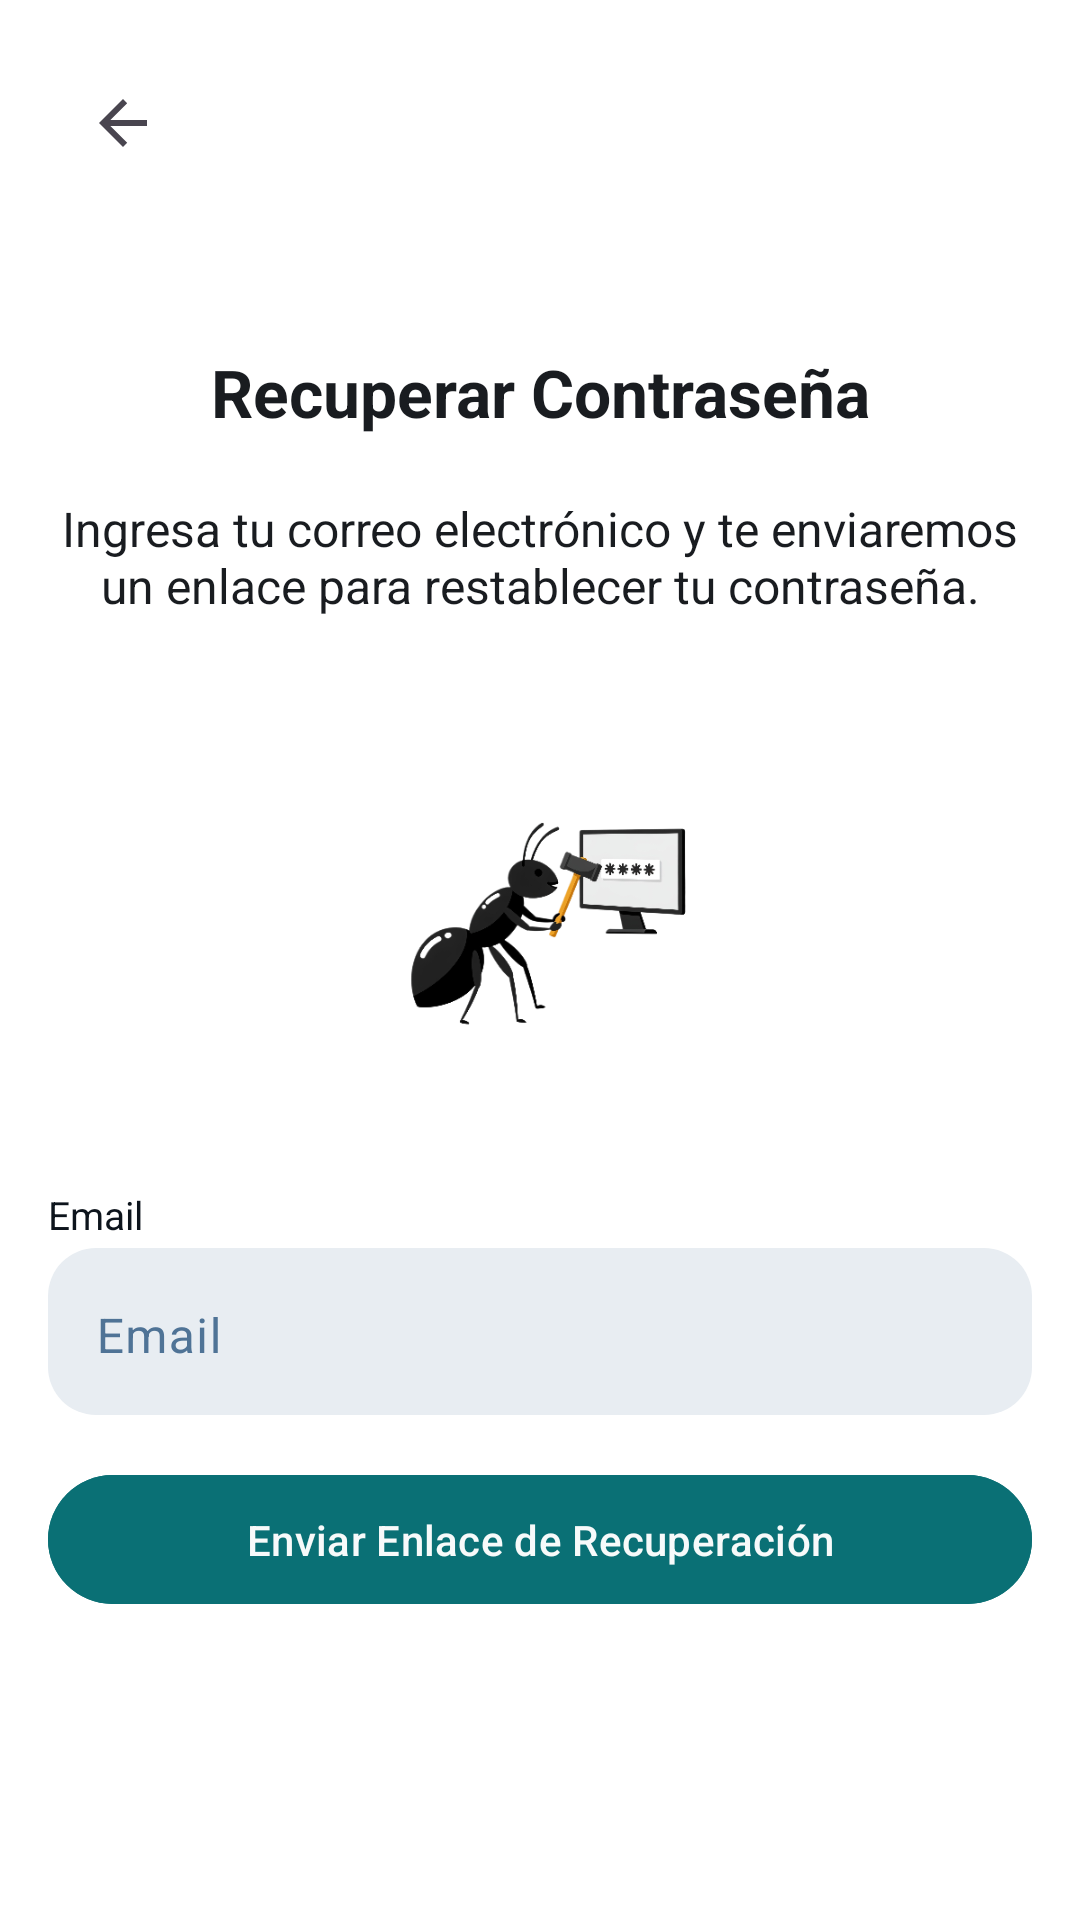

Screen size 1080 x 1920. Icon name, then its center in pixels as (x,y):
pass: (548,924)
